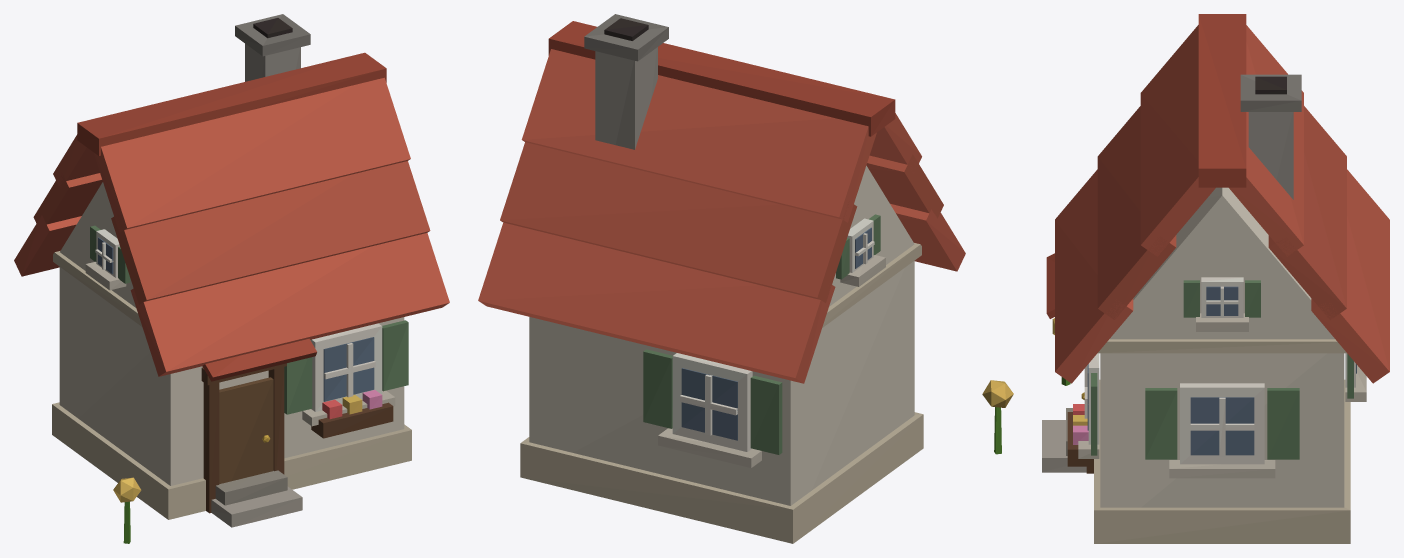
The model's file is maison-prairie.glb.
The picture shows the model from 3 angles, left to right: view 1: azimuth 30°, elevation 25°; view 2: azimuth 150°, elevation 25°; view 3: azimuth 270°, elevation 25°; orthographic projection. The views are drawn at different scales.
Bounding box in the file's own units: 5.76 × 6.5 × 4.77.
